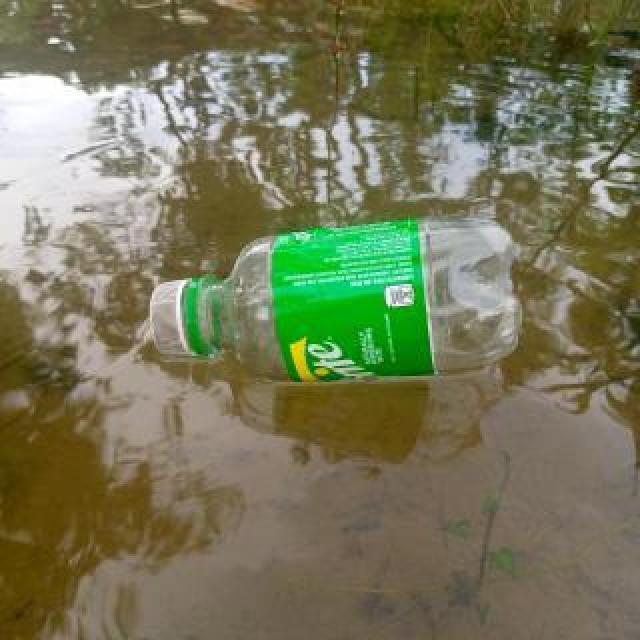bottle: (149, 217, 525, 385)
